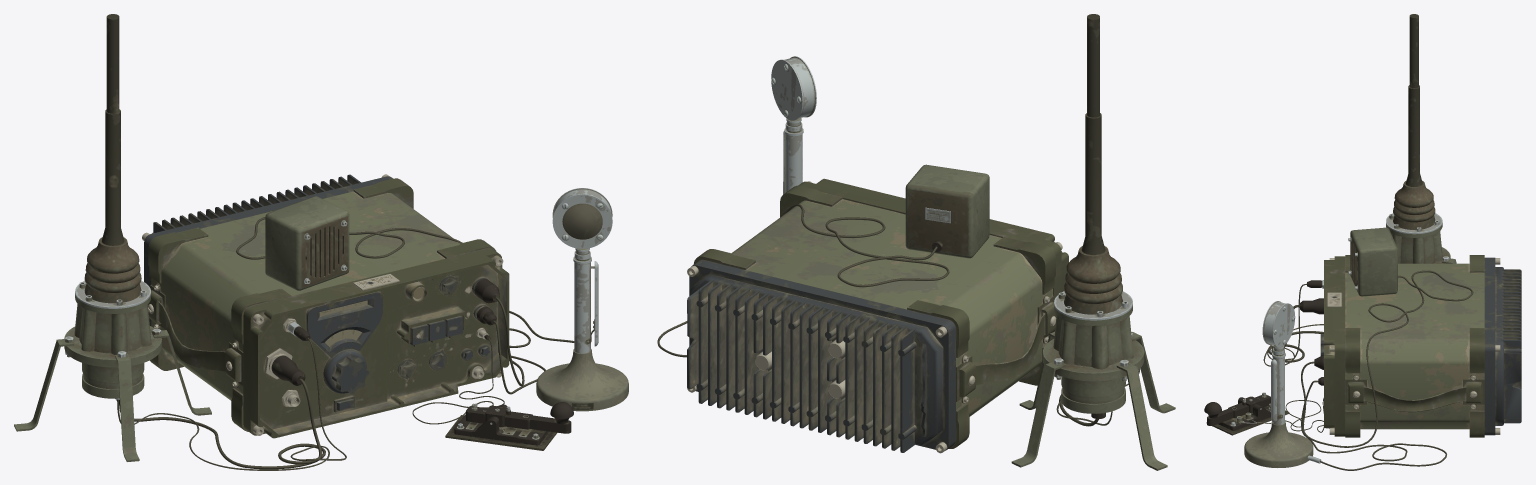
3 views of the same model, side by side, from view 1: azimuth 30°, elevation 25°; view 2: azimuth 150°, elevation 25°; view 3: azimuth 270°, elevation 25° (orthographic). The views are drawn at different scales.
Parts seen in each view (by area): view 1: vintage_radio_transceiver, vintage_radio_transceiver_antenna, vintage_radio_transceiver_microphone, vintage_radio_transceiver_speaker, vintage_radio_transceiver_cables, vintage_radio_transceiver_morse_key_base, vintage_radio_transceiver_morse_key_arm, vintage_radio_transceiver_dial, vintage_radio_transceiver_antenna_plug_a; view 2: vintage_radio_transceiver, vintage_radio_transceiver_antenna, vintage_radio_transceiver_speaker, vintage_radio_transceiver_microphone, vintage_radio_transceiver_cables; view 3: vintage_radio_transceiver, vintage_radio_transceiver_antenna, vintage_radio_transceiver_microphone, vintage_radio_transceiver_cables, vintage_radio_transceiver_speaker, vintage_radio_transceiver_morse_key_arm, vintage_radio_transceiver_morse_key_base.
Boxes of the visible parts, x1,y1,x2,y2 form: vintage_radio_transceiver: [142, 174, 509, 438]; vintage_radio_transceiver_antenna: [14, 14, 211, 461]; vintage_radio_transceiver_microphone: [536, 188, 628, 411]; vintage_radio_transceiver_speaker: [265, 196, 349, 290]; vintage_radio_transceiver_cables: [117, 217, 574, 470]; vintage_radio_transceiver_morse_key_base: [445, 404, 557, 450]; vintage_radio_transceiver_morse_key_arm: [466, 402, 573, 433]; vintage_radio_transceiver_dial: [323, 329, 369, 393]; vintage_radio_transceiver_antenna_plug_a: [271, 355, 305, 385]; vintage_radio_transceiver: [687, 178, 1068, 453]; vintage_radio_transceiver_antenna: [1011, 14, 1175, 470]; vintage_radio_transceiver_speaker: [905, 164, 989, 258]; vintage_radio_transceiver_microphone: [771, 56, 816, 194]; vintage_radio_transceiver_cables: [657, 204, 1139, 426]; vintage_radio_transceiver: [1324, 255, 1521, 437]; vintage_radio_transceiver_antenna: [1386, 14, 1456, 263]; vintage_radio_transceiver_microphone: [1244, 301, 1321, 467]; vintage_radio_transceiver_cables: [1261, 270, 1473, 470]; vintage_radio_transceiver_speaker: [1348, 227, 1397, 296]; vintage_radio_transceiver_morse_key_arm: [1204, 392, 1270, 425]; vintage_radio_transceiver_morse_key_base: [1206, 397, 1289, 435].
Size of the model in its own units: 0.574 by 0.4344 by 0.4131.
2 materials, 2 textured.
